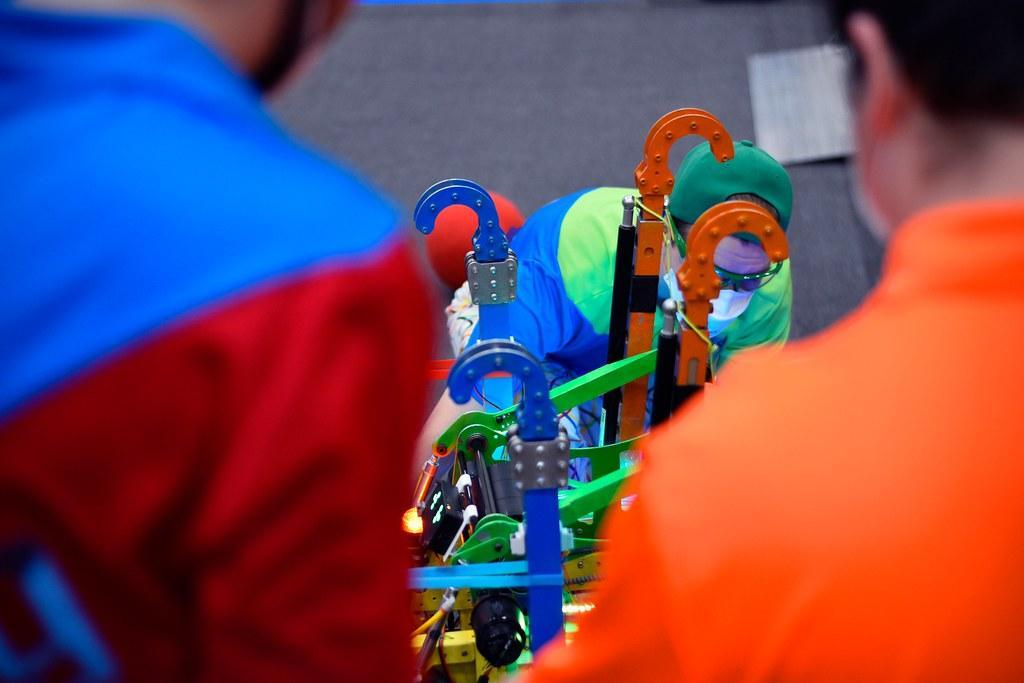robot: (310, 83, 800, 683)
